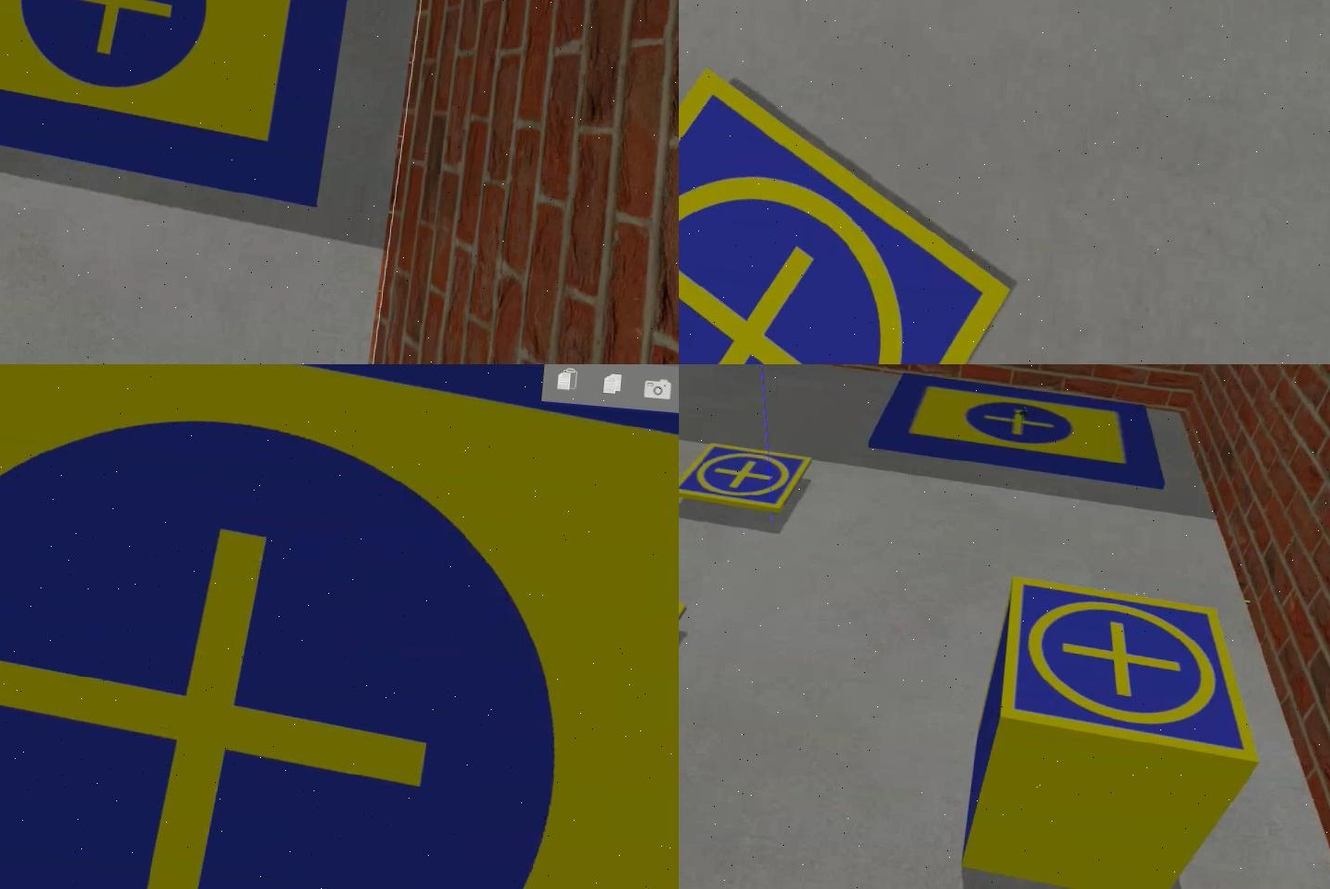large_base: (0, 365, 678, 889), (0, 1, 364, 209), (863, 373, 1173, 491)
small_base: (678, 49, 1028, 365), (996, 573, 1276, 765), (678, 441, 812, 514)
